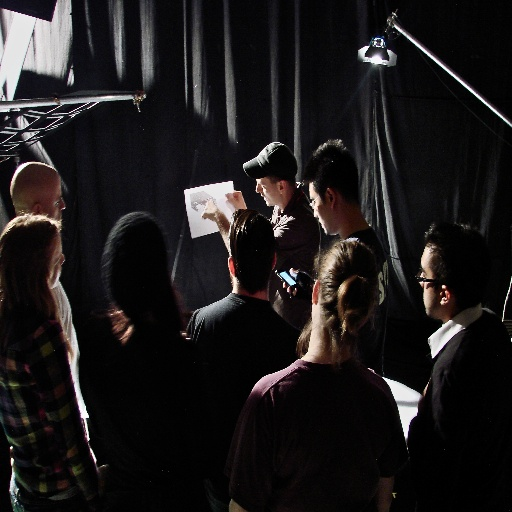hand: (282, 266, 313, 298), (224, 189, 250, 213), (200, 197, 220, 222)
